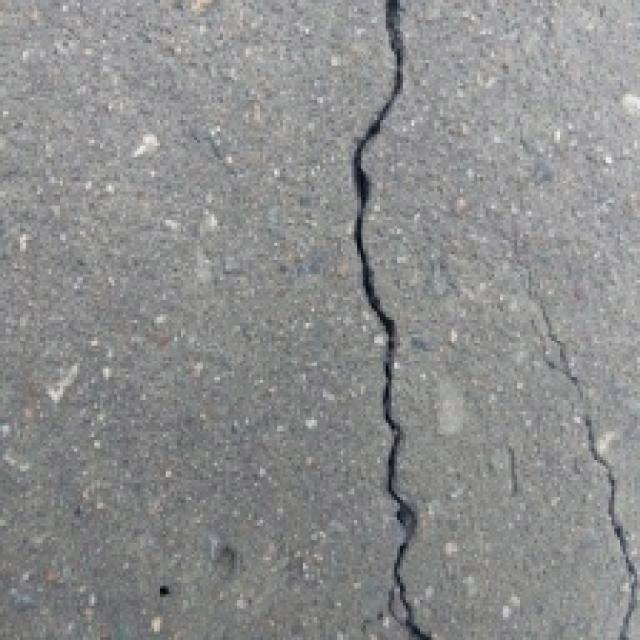crack: (334, 0, 446, 640), (514, 270, 640, 640)
